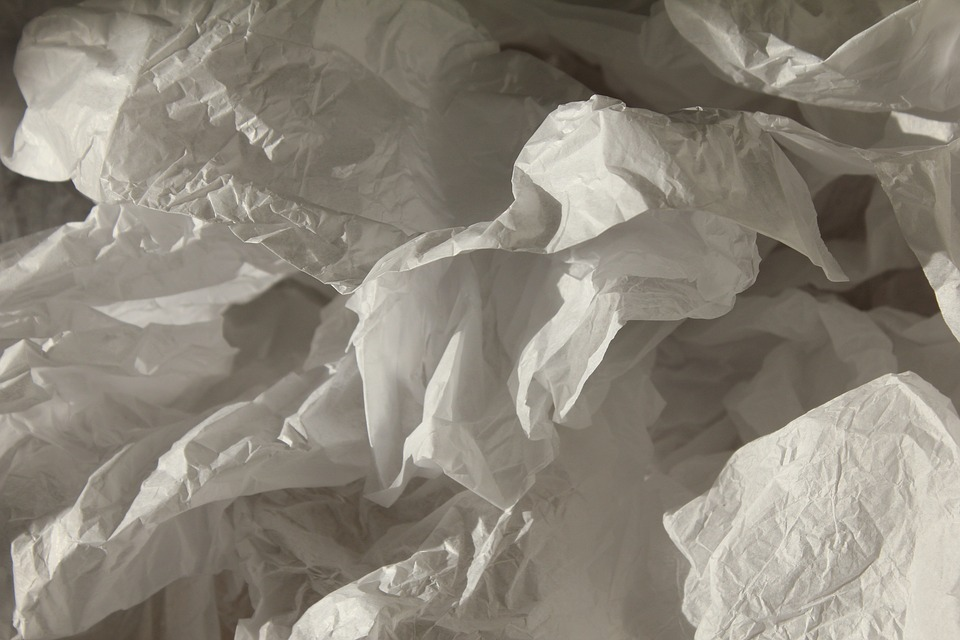Tissue: (282, 99, 851, 509)
